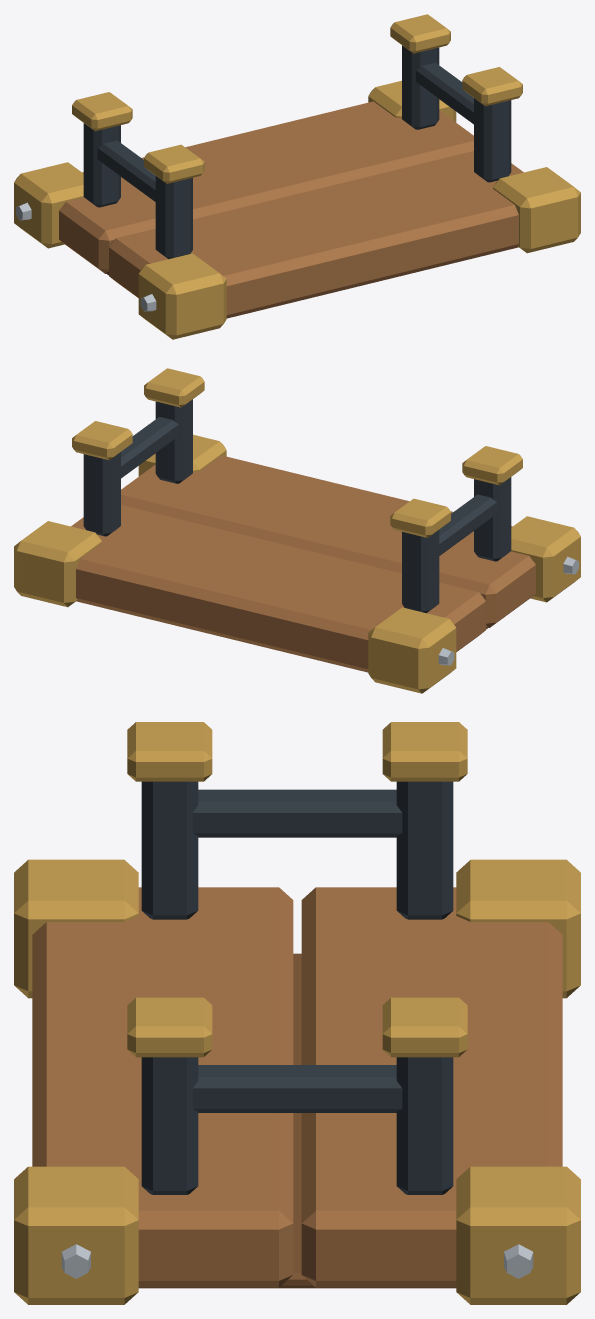
File: Geode_Stand.fbx
The picture shows the model from 3 angles, top to bottom: view 1: azimuth 30°, elevation 25°; view 2: azimuth 150°, elevation 25°; view 3: azimuth 270°, elevation 25°; orthographic projection. The views are drawn at different scales.
Parts seen in each view (by area): view 1: Wood, Brass, FrameDark, SteelLight; view 2: Wood, Brass, FrameDark, SteelLight; view 3: Wood, Brass, FrameDark, WoodDark, SteelLight.
Boxes of the visible parts, x1=… form: Wood: x1=59, y1=101, x2=523, y2=318; Brass: x1=14, y1=14, x2=580, y2=339; FrameDark: x1=83, y1=45, x2=511, y2=259; SteelLight: x1=16, y1=202, x2=156, y2=311; Wood: x1=71, y1=455, x2=535, y2=672; Brass: x1=14, y1=368, x2=580, y2=693; FrameDark: x1=83, y1=399, x2=511, y2=613; SteelLight: x1=438, y1=556, x2=578, y2=665; Wood: x1=32, y1=887, x2=562, y2=1287; Brass: x1=14, y1=722, x2=580, y2=1304; FrameDark: x1=141, y1=781, x2=453, y2=1194; WoodDark: x1=139, y1=953, x2=455, y2=1288; SteelLight: x1=61, y1=1244, x2=533, y2=1278.
Bounding box in the file's own units: 3.12 × 1 × 2.
